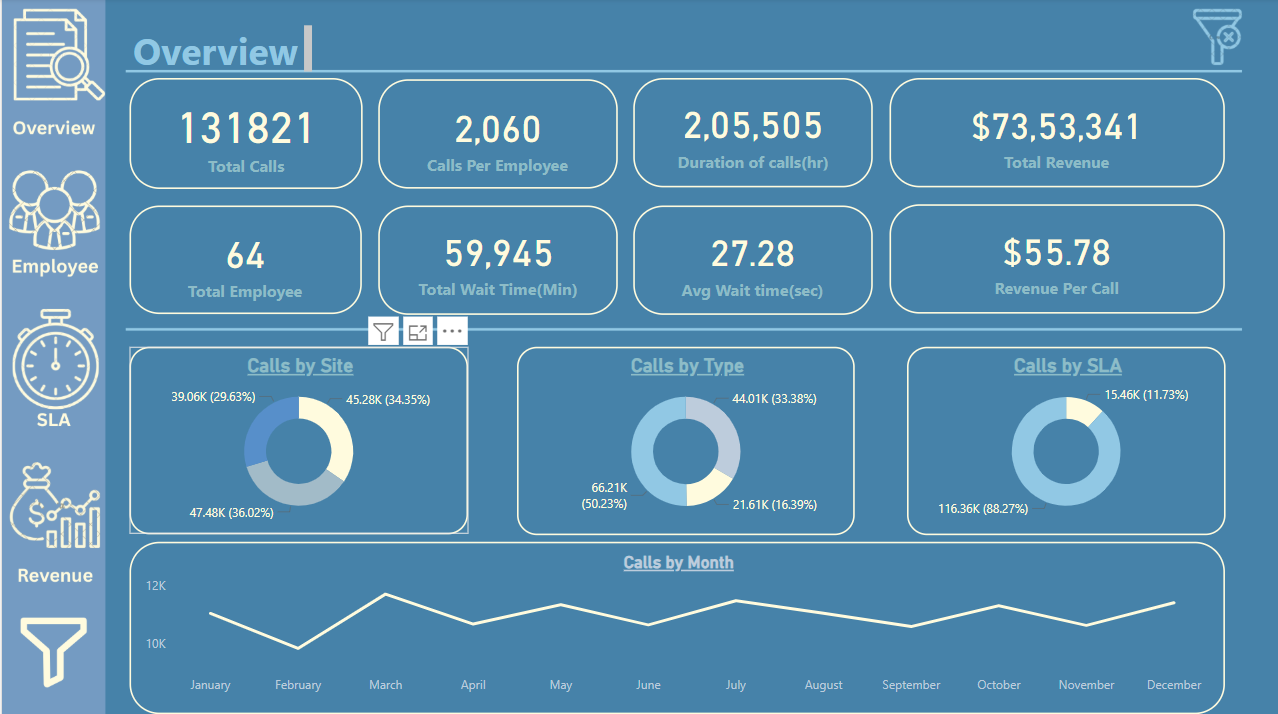

What the dashboard file says about the page in this screenshot:
{"tool":"powerbi","page":{"name":"Oveview","canvas":[1280,720],"ordinal":0},"visuals":[{"type":"textbox","box":[120.1,22.8,195.7,57.6],"z":0},{"type":"card","fields":{"Values":["Created_measures.Measure"]},"box":[128,80.1,233.8,111.3],"z":1000},{"type":"card","fields":{"Values":["Created_measures.Measure"]},"box":[128,208.2,232.7,109.1],"z":2000},{"type":"card","fields":{"Values":["Created_measures.CallsPerEmployee"]},"box":[377,81.7,240.2,109.3],"z":3000},{"type":"card","fields":{"Values":["Created_measures.TotalWaitTimeInMinutes"]},"box":[377,207.7,240.2,109.3],"z":4000},{"type":"card","fields":{"Values":["Created_measures.DurationOfCallsHrs"]},"box":[632.8,80.5,240.2,109.3],"z":5000},{"type":"card","fields":{"Values":["Created_measures.AvgWaitTime"]},"box":[632.8,207.7,240.2,109.3],"z":6000},{"type":"card","fields":{"Values":["Created_measures.TotalSales"]},"box":[889.8,80.5,336.2,109.3],"z":7000},{"type":"card","fields":{"Values":["Created_measures.RevenuePerCall"]},"box":[889.8,206.5,336.2,109.3],"z":8000},{"type":"donutChart","title":"Calls by Site","fields":{"Y":["CountNonNull(Cleaned_callData.CallTime)"],"Series":["Lookup+Tables.Site"]},"box":[128,349.5,339.5,188.1],"z":9000},{"type":"donutChart","title":"Calls by Type","fields":{"Y":["CountNonNull(Cleaned_callData.CallTime)"],"Series":["Cleaned_callData.Call Type"]},"box":[516.3,349.4,338.6,188.5],"z":10000},{"type":"donutChart","title":"Calls by SLA","fields":{"Y":["CountNonNull(Cleaned_callData.CallTime)"],"Series":["Cleaned_callData.SLAComplaince"]},"box":[906.6,349.4,319.4,188.5],"z":11000},{"type":"lineChart","title":"Calls by Month","fields":{"Y":["CountNonNull(Cleaned_callData.CallTime)"],"Category":["Cleaned_callData.CallDate.Variation.Date Hierarchy.Month"]},"box":[128,544.3,1097.6,172.5],"z":12000},{"type":"pageNavigator","box":[0,164,103.5,116.3],"z":13000},{"type":"pageNavigator","box":[0,306.1,103.5,128],"z":14000},{"type":"pageNavigator","box":[0,465.3,103.5,123.6],"z":15000},{"type":"pageNavigator","box":[11.1,611.1,82.4,85.7],"z":16000},{"type":"actionButton","box":[1184,6,65.1,65.1],"z":17000}]}

Visuals, with their boxes in screenshot pixels (x1, y1, x2, y2), scaled from the page's 1280x720 canvas onto the 1278x714 screenshot:
textbox: locate(120, 23, 315, 80)
card - Created_measures.Measure: locate(128, 79, 361, 190)
card - Created_measures.Measure: locate(128, 206, 360, 315)
card - Created_measures.CallsPerEmployee: locate(376, 81, 616, 189)
card - Created_measures.TotalWaitTimeInMinutes: locate(376, 206, 616, 314)
card - Created_measures.DurationOfCallsHrs: locate(632, 80, 872, 188)
card - Created_measures.AvgWaitTime: locate(632, 206, 872, 314)
card - Created_measures.TotalSales: locate(888, 80, 1224, 188)
card - Created_measures.RevenuePerCall: locate(888, 205, 1224, 313)
"Calls by Site" donutChart: locate(128, 347, 467, 533)
"Calls by Type" donutChart: locate(515, 346, 854, 533)
"Calls by SLA" donutChart: locate(905, 346, 1224, 533)
"Calls by Month" lineChart: locate(128, 540, 1224, 711)
pageNavigator: locate(0, 163, 103, 278)
pageNavigator: locate(0, 304, 103, 430)
pageNavigator: locate(0, 461, 103, 584)
pageNavigator: locate(11, 606, 93, 691)
actionButton: locate(1182, 6, 1247, 71)
